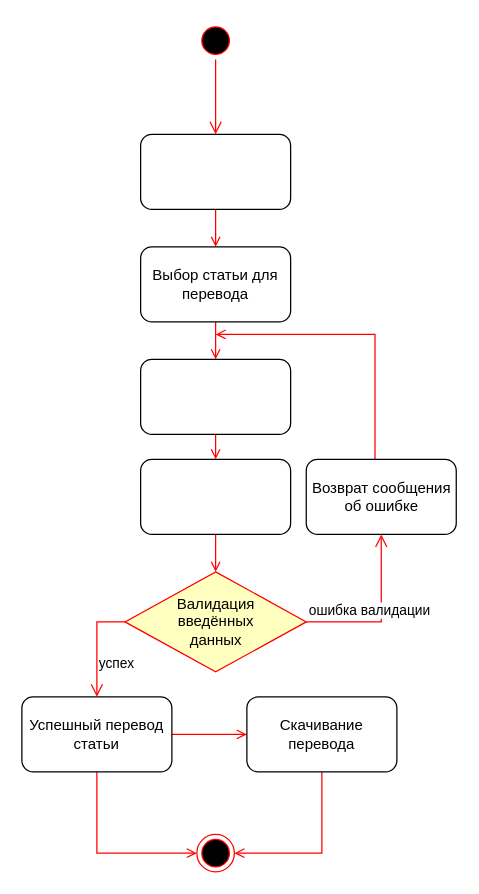
Image size: 479x894. Some labels were removed from this diagram. The box of each missing label's shape, as (x1, y1, x2, y2) in pixels:
Выбор конфигурации перевода: (139, 358, 291, 434)
Отправка формы: (139, 458, 291, 534)
Просмотр статей: (139, 133, 291, 209)
